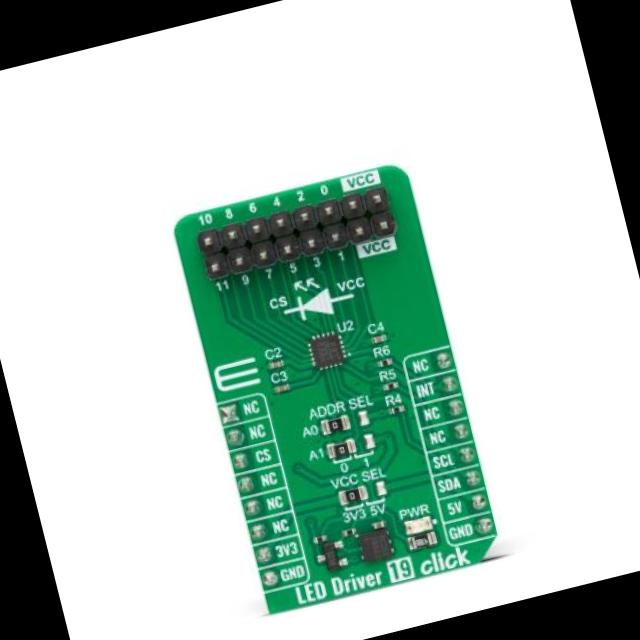IC: (305, 328, 349, 373), (356, 524, 396, 566)
LED: (404, 516, 428, 530)
capacitor: (274, 381, 290, 392), (370, 518, 384, 530), (372, 333, 386, 344), (268, 360, 282, 369)
connector: (190, 182, 397, 280)
resistor: (408, 530, 436, 550), (324, 414, 348, 436), (329, 438, 354, 459), (341, 486, 364, 504), (380, 379, 400, 392), (378, 356, 394, 369), (342, 527, 358, 538), (388, 404, 403, 414), (314, 534, 328, 542)
transistor: (318, 538, 350, 572)
